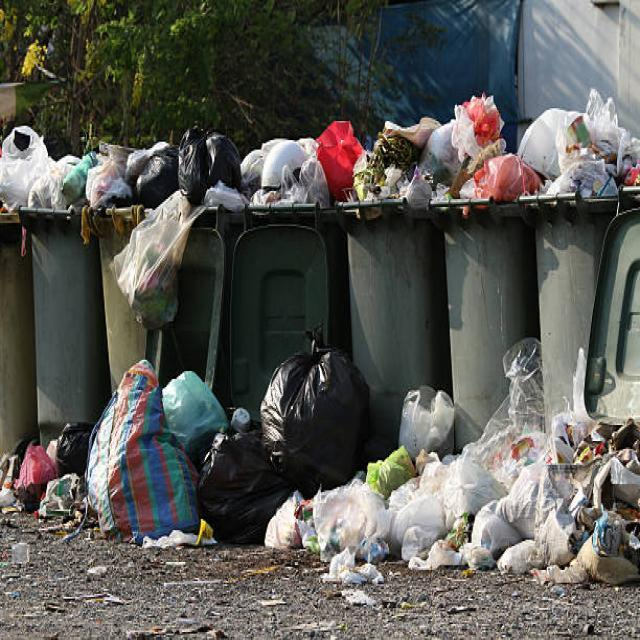garbage: (365, 340, 640, 588), (88, 350, 264, 558), (362, 89, 640, 207), (0, 121, 243, 215), (264, 470, 394, 610), (259, 327, 376, 475), (0, 410, 91, 545), (244, 114, 364, 212)
